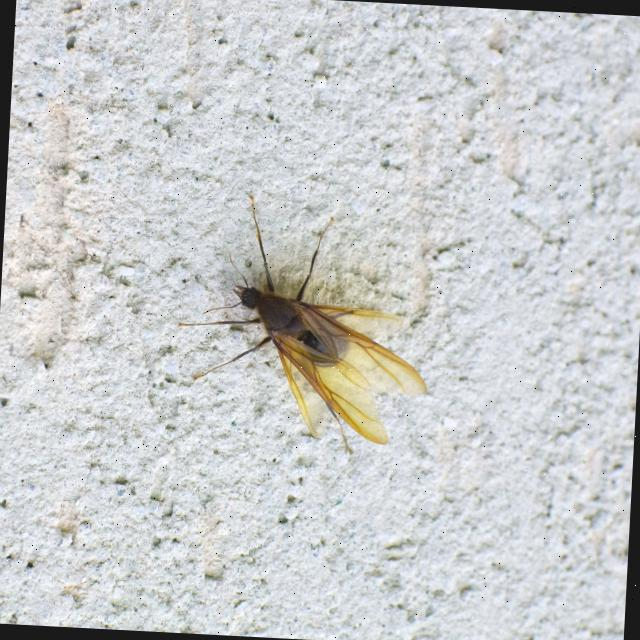Alive-Male-Alate: (171, 192, 436, 458)
